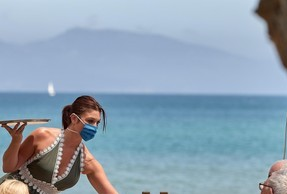with_mask: (65, 98, 107, 142)
